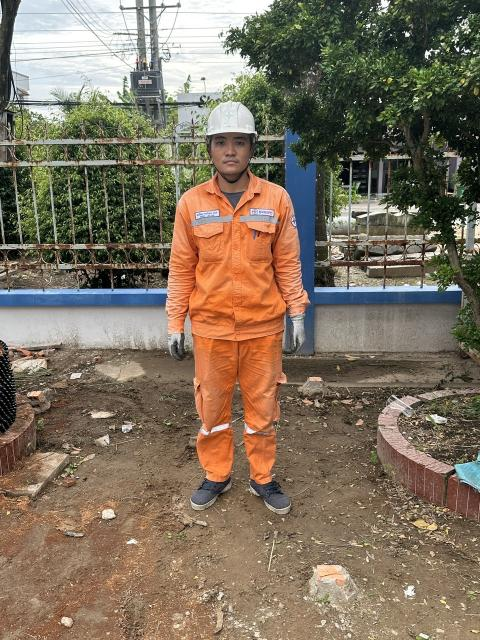gloves: (280, 308, 314, 352), (166, 331, 200, 363)
helmet: (197, 96, 261, 138)
shoes: (248, 471, 295, 522), (186, 474, 234, 514)
